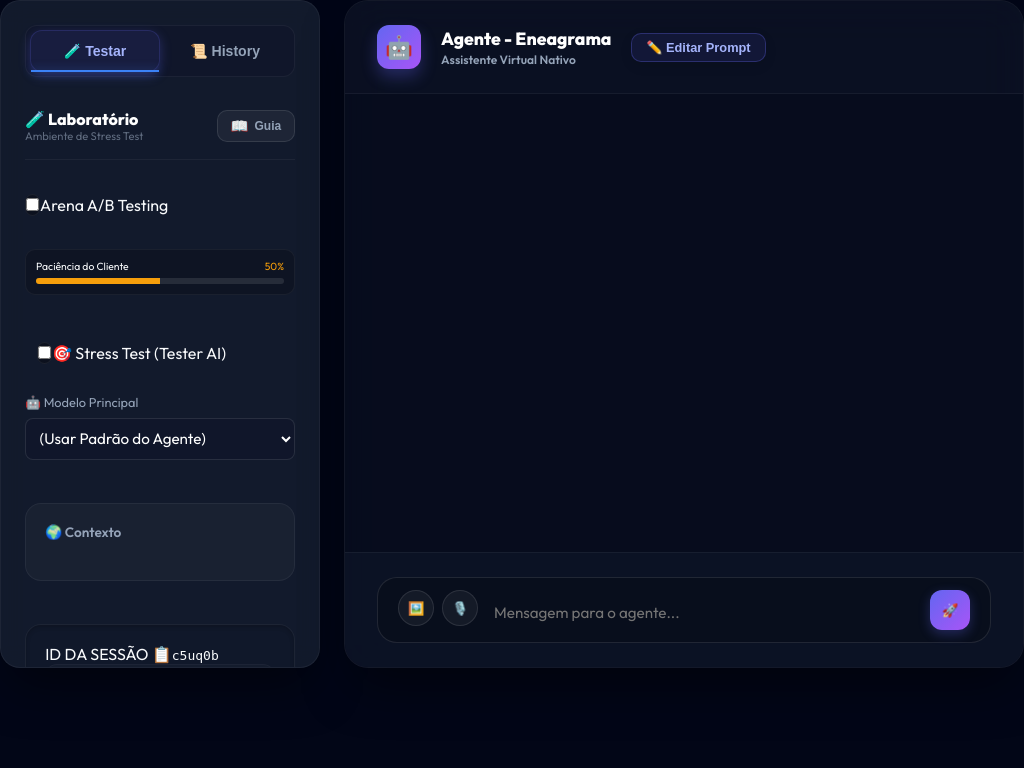
Test: ChatPlayground Component › should send a message and show the response
Step 1. Type "Olá!" into the text box with placeholder "Mensagem para o agente..." → [704, 612], box [494,595,914,630]
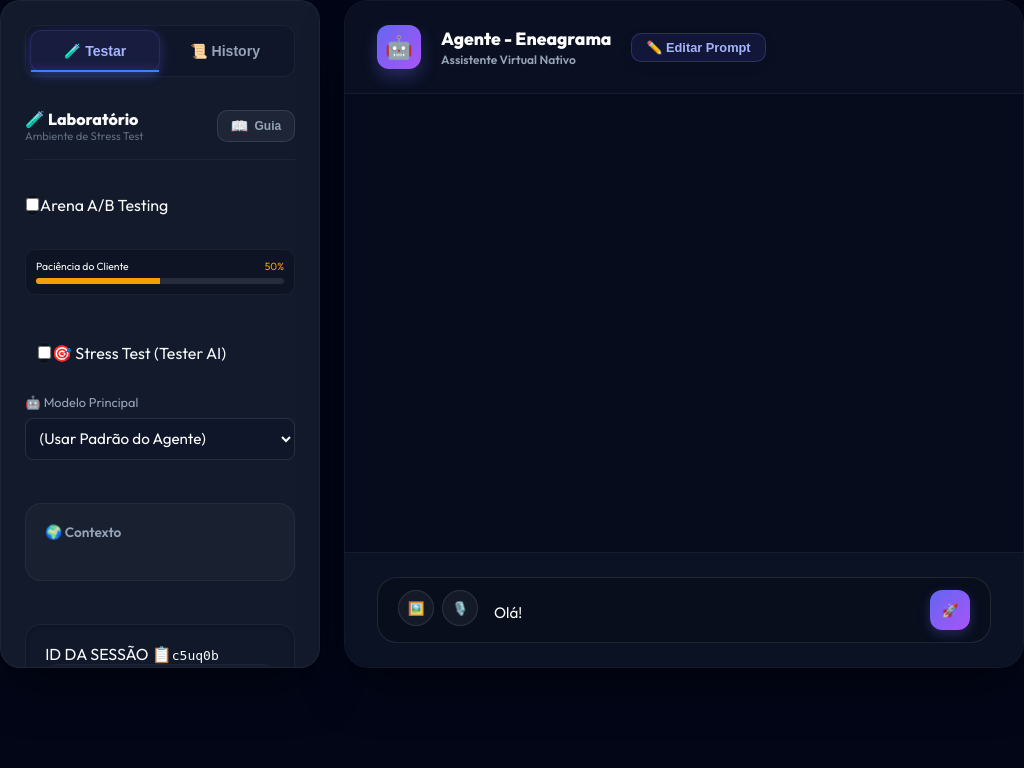
Step 2. Click the submit button → [950, 610], box [930,590,970,630]
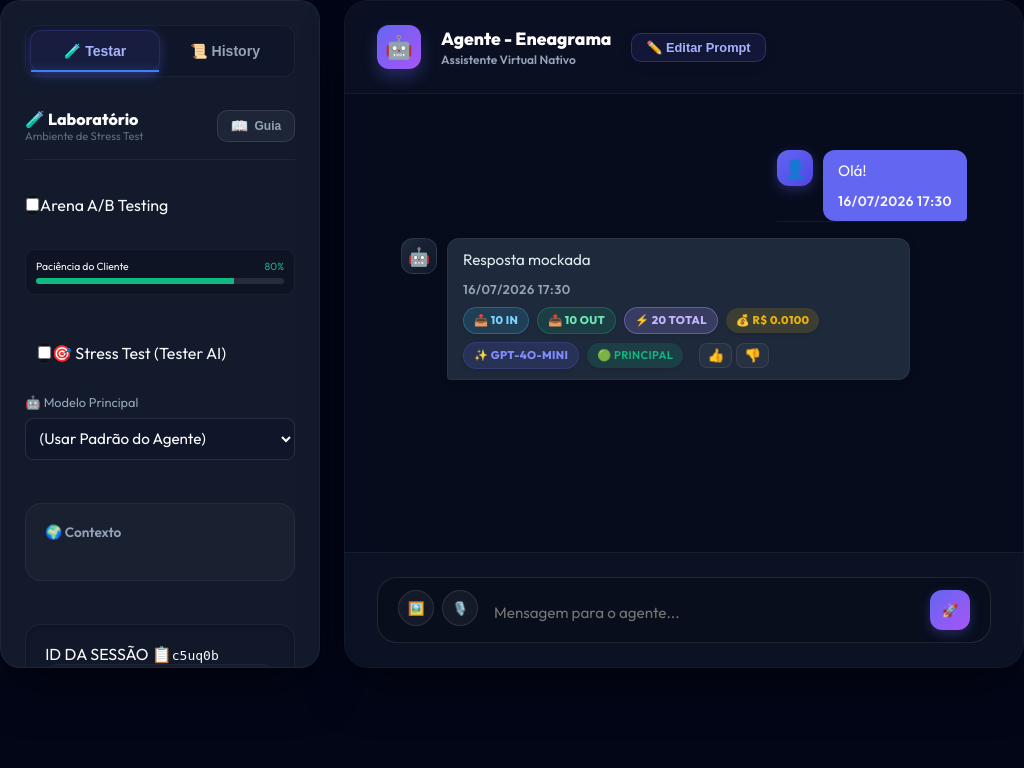
Expected: the text "Olá!" is shown, [838,161,866,180]
Expected: the text "Resposta mockada" is shown, [463,250,591,269]
